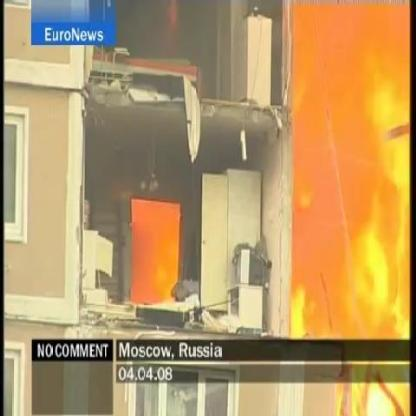fire: (290, 0, 412, 340), (130, 197, 179, 308)
